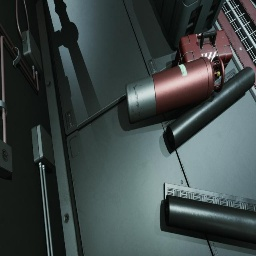FirstAidBox ,: (175, 30, 232, 76)
NitrogenTank ,: (125, 56, 225, 124)
